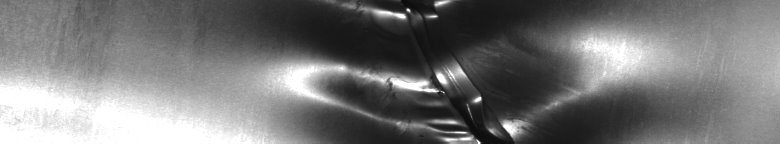ke: (310, 4, 584, 136)
